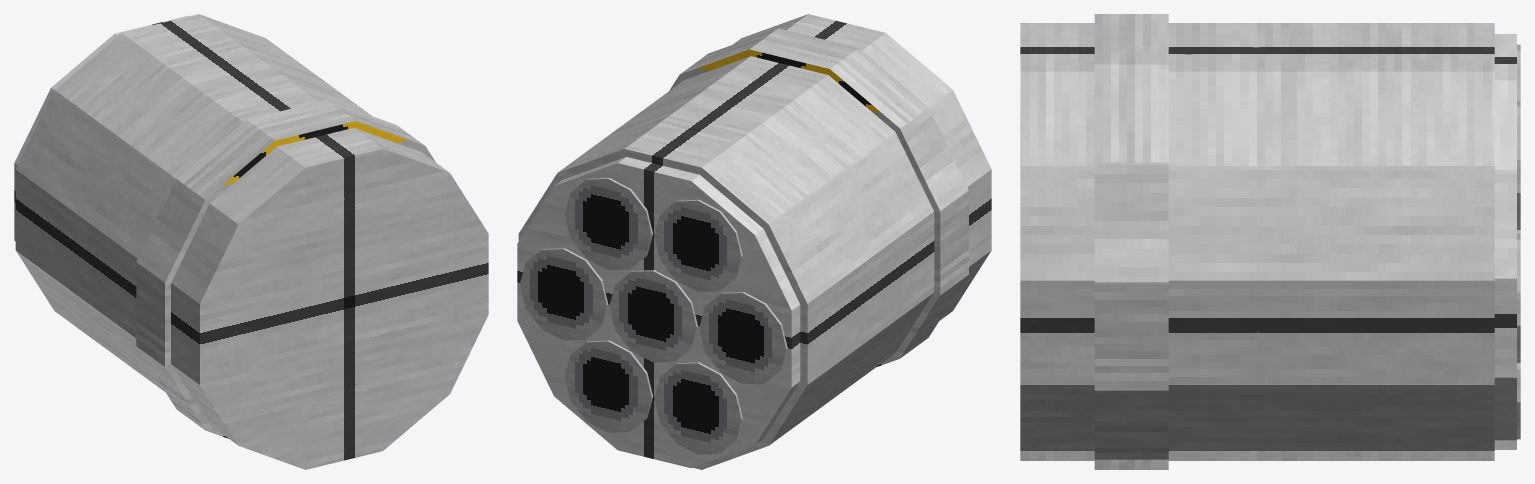
Rendered from rack_round_aphelion.glb.
3 views of the same model, side by side, from view 1: azimuth 30°, elevation 25°; view 2: azimuth 150°, elevation 25°; view 3: azimuth 270°, elevation 25° (orthographic). The views are drawn at different scales.
Parts seen in each view (by area): view 1: rack, rack_band, rack_face; view 2: rack, rack_face, rack_band, rack_tube, rack_tube.005, rack_tube.004, rack_tube.006, rack_tube.003, rack_tube.001, rack_tube.002; view 3: rack, rack_band, rack_face, rack_tube.001, rack_tube.002.
Part boxes in pixels (bbox=[...]): rack: bbox=[15, 14, 488, 469]; rack_band: bbox=[136, 100, 435, 438]; rack_face: bbox=[14, 15, 189, 241]; rack: bbox=[518, 14, 991, 469]; rack_face: bbox=[517, 157, 800, 468]; rack_band: bbox=[669, 28, 968, 366]; rack_tube: bbox=[609, 270, 697, 362]; rack_tube.005: bbox=[654, 362, 742, 454]; rack_tube.004: bbox=[699, 292, 787, 384]; rack_tube.006: bbox=[564, 340, 653, 432]; rack_tube.003: bbox=[654, 199, 742, 291]; rack_tube.001: bbox=[519, 248, 608, 340]; rack_tube.002: bbox=[564, 178, 652, 269]; rack: bbox=[1020, 23, 1494, 460]; rack_band: bbox=[1094, 14, 1168, 469]; rack_face: bbox=[1494, 34, 1516, 449]; rack_tube.001: bbox=[1517, 233, 1520, 362]; rack_tube.002: bbox=[1517, 101, 1520, 229].
Size of the model in its own units: 12.07 by 12.07 by 13.5.
4 materials, 4 textured.
